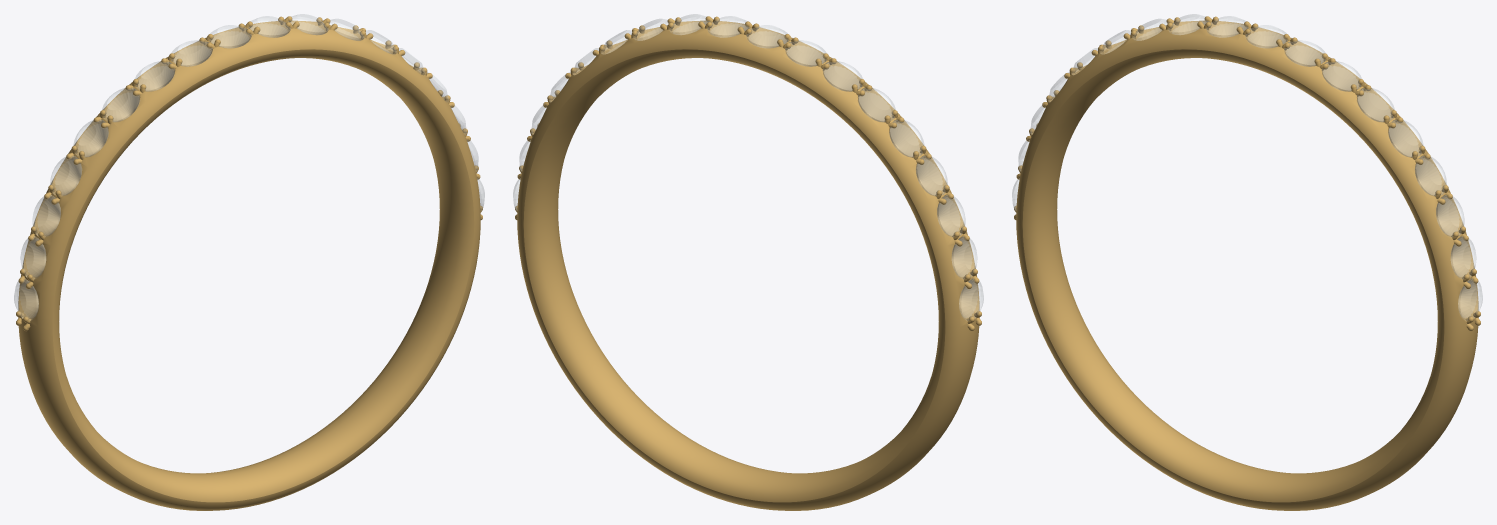
File: layouts-half-eternity.glb
The picture shows the model from 3 angles, left to right: view 1: azimuth 30°, elevation 25°; view 2: azimuth 150°, elevation 25°; view 3: azimuth 330°, elevation 25°; orthographic projection.
Parts seen in each view (by area): view 1: Band, Gem.004, Gem.003, Gem.005, Gem.002, Gem.006, Gem.001, Gem.007, Gem, Gem.008, Gem.009, Gem.010; view 2: Band, Gem.004, Gem.003, Gem.005, Gem.002, Gem.006, Gem.001, Gem.007, Gem, Gem.008, Gem.009, Gem.010; view 3: Band, Gem.013, Gem.014, Gem.012, Gem.015, Gem.011, Gem.016, Gem.010, Gem.017, Gem.009, Gem.008, Gem.007.
Boxes of the visible parts, bbox=[...] form: Band: bbox=[18, 20, 480, 510]; Gem.004: bbox=[73, 120, 108, 157]; Gem.003: bbox=[50, 156, 81, 195]; Gem.005: bbox=[102, 88, 139, 121]; Gem.002: bbox=[32, 195, 60, 236]; Gem.006: bbox=[135, 61, 174, 91]; Gem.001: bbox=[20, 236, 45, 278]; Gem.007: bbox=[171, 40, 212, 66]; Gem: bbox=[14, 279, 38, 320]; Gem.008: bbox=[209, 25, 251, 48]; Gem.009: bbox=[248, 16, 290, 37]; Gem.010: bbox=[288, 14, 328, 34]; Band: bbox=[517, 20, 979, 510]; Gem.004: bbox=[889, 120, 924, 157]; Gem.003: bbox=[916, 156, 947, 195]; Gem.005: bbox=[858, 88, 895, 121]; Gem.002: bbox=[937, 195, 965, 236]; Gem.006: bbox=[823, 61, 862, 91]; Gem.001: bbox=[952, 236, 977, 278]; Gem.007: bbox=[785, 40, 826, 66]; Gem: bbox=[959, 279, 983, 320]; Gem.008: bbox=[746, 25, 788, 48]; Gem.009: bbox=[707, 16, 749, 37]; Gem.010: bbox=[669, 14, 709, 34]; Band: bbox=[1016, 20, 1478, 510]; Gem.013: bbox=[1388, 120, 1423, 157]; Gem.014: bbox=[1415, 156, 1446, 195]; Gem.012: bbox=[1357, 88, 1394, 121]; Gem.015: bbox=[1436, 195, 1464, 236]; Gem.011: bbox=[1322, 61, 1361, 91]; Gem.016: bbox=[1451, 236, 1476, 278]; Gem.010: bbox=[1284, 40, 1325, 66]; Gem.017: bbox=[1458, 279, 1482, 320]; Gem.009: bbox=[1245, 25, 1287, 48]; Gem.008: bbox=[1206, 16, 1248, 37]; Gem.007: bbox=[1168, 14, 1208, 34].
Bounding box in the file's own units: 19.99 × 19.79 × 2.1.
